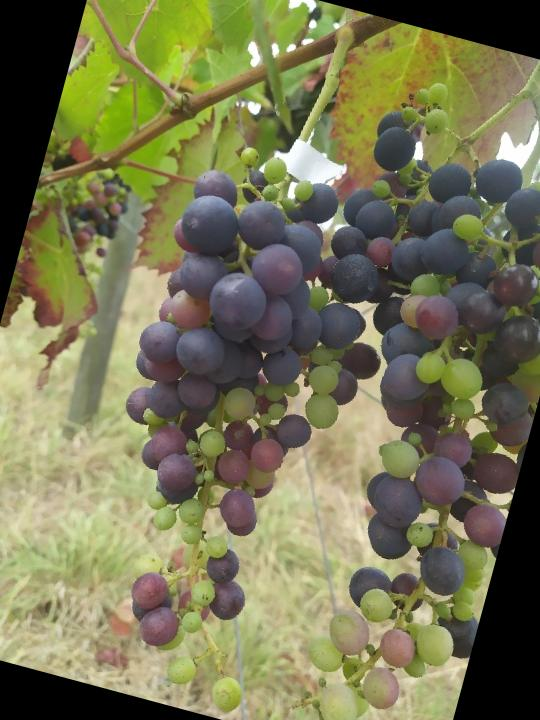grape: (40, 126, 426, 720), (221, 63, 540, 720)
